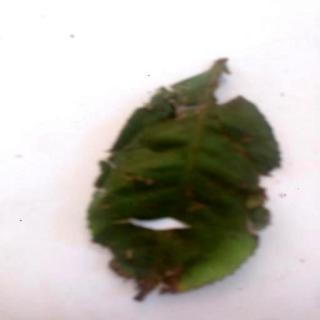Brown Blight: (88, 56, 284, 304)
